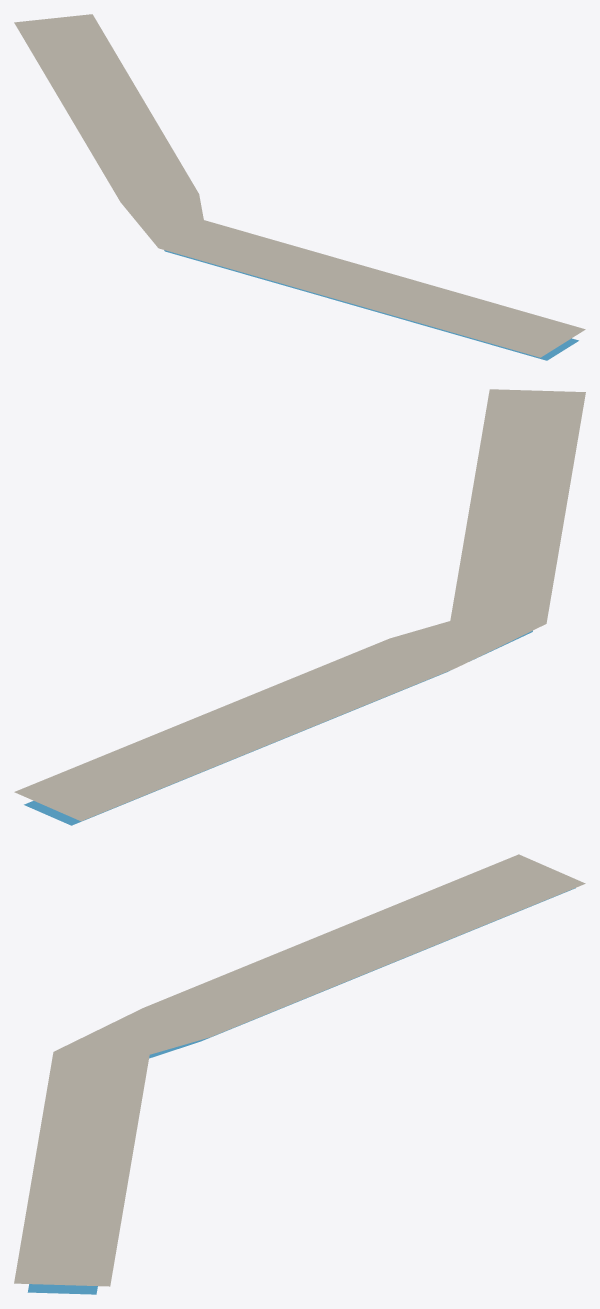
The picture shows the model from 3 angles, top to bottom: view 1: azimuth 30°, elevation 25°; view 2: azimuth 150°, elevation 25°; view 3: azimuth 330°, elevation 25°; orthographic projection. The views are drawn at different scales.
Parts seen in each view (by area): view 1: estructura_terreno, estructura_agua; view 2: estructura_terreno, estructura_agua; view 3: estructura_terreno, estructura_agua.
Part boxes in pixels (<box>): estructura_terreno: <box>14,14,585,357</box>; estructura_agua: <box>164,250,578,360</box>; estructura_terreno: <box>14,389,585,821</box>; estructura_agua: <box>24,630,532,825</box>; estructura_terreno: <box>14,854,585,1286</box>; estructura_agua: <box>27,888,575,1294</box>.
Bounding box in the file's own units: 14.22 × 0.41 × 49.26.
